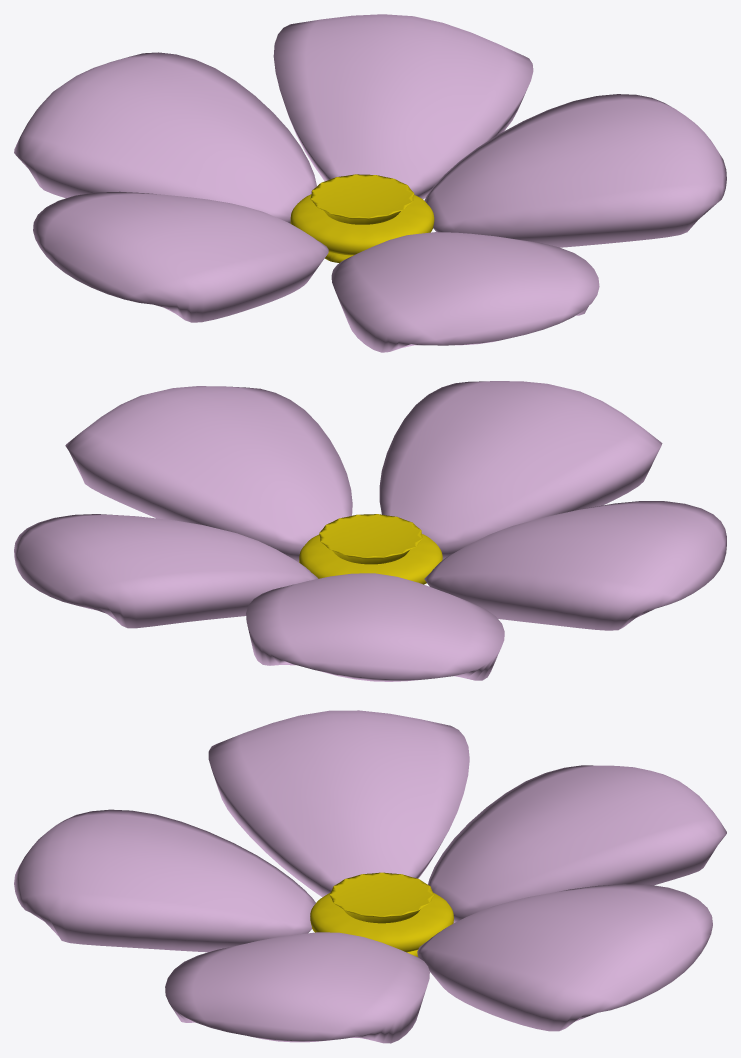
Rendered from Blumen1.fbx.
3 views of the same model, one above another, from view 1: azimuth 30°, elevation 25°; view 2: azimuth 150°, elevation 25°; view 3: azimuth 270°, elevation 25° (orthographic).
Visible parts, largest first — view 1: Plane; view 2: Plane; view 3: Plane.
Boxes of the visible parts, box(x1,y1,x2,y2) form: Plane: box(14, 14, 726, 352); Plane: box(14, 381, 726, 681); Plane: box(14, 710, 726, 1043).
Bounding box in the file's own units: 280 × 44.36 × 275.
